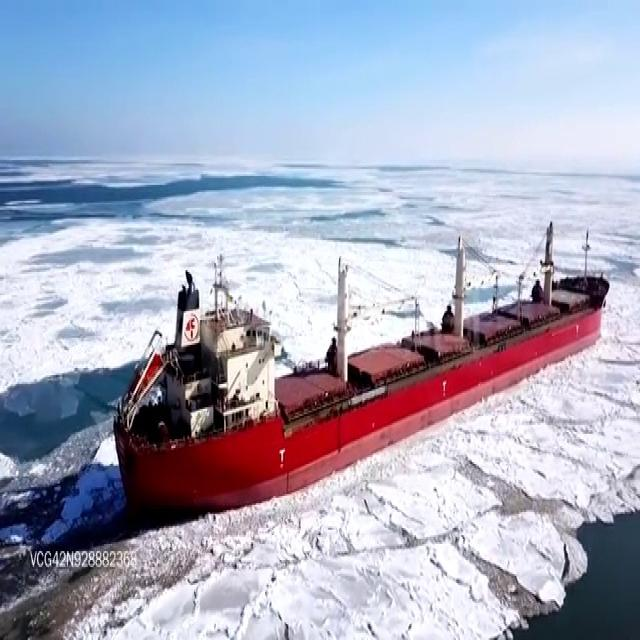cargoship: (117, 230, 606, 487)
